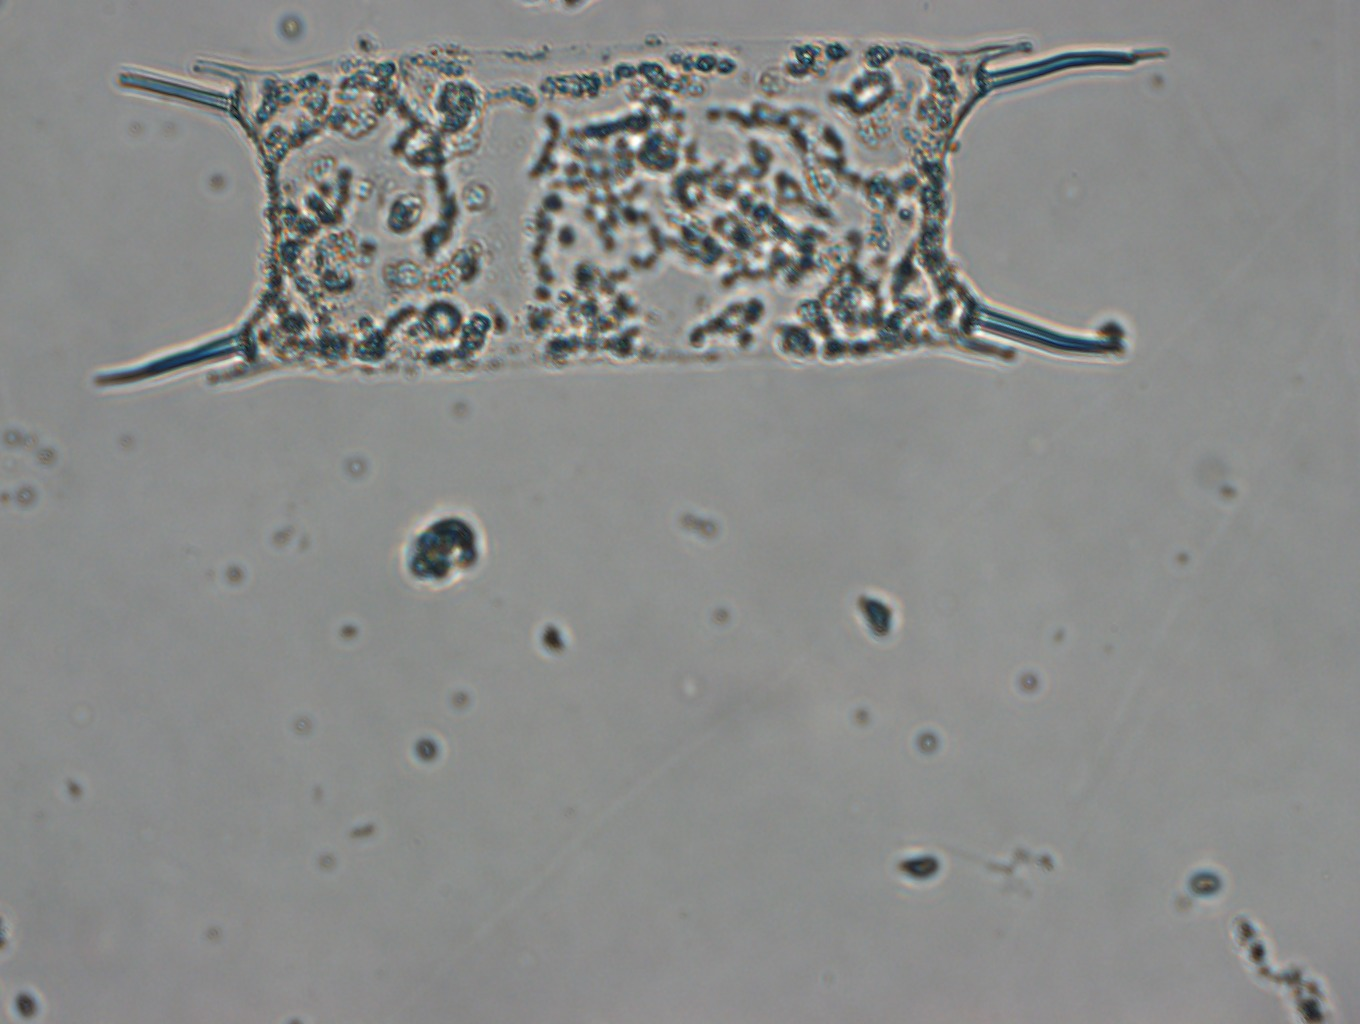biddulphia: (87, 35, 1177, 380)
